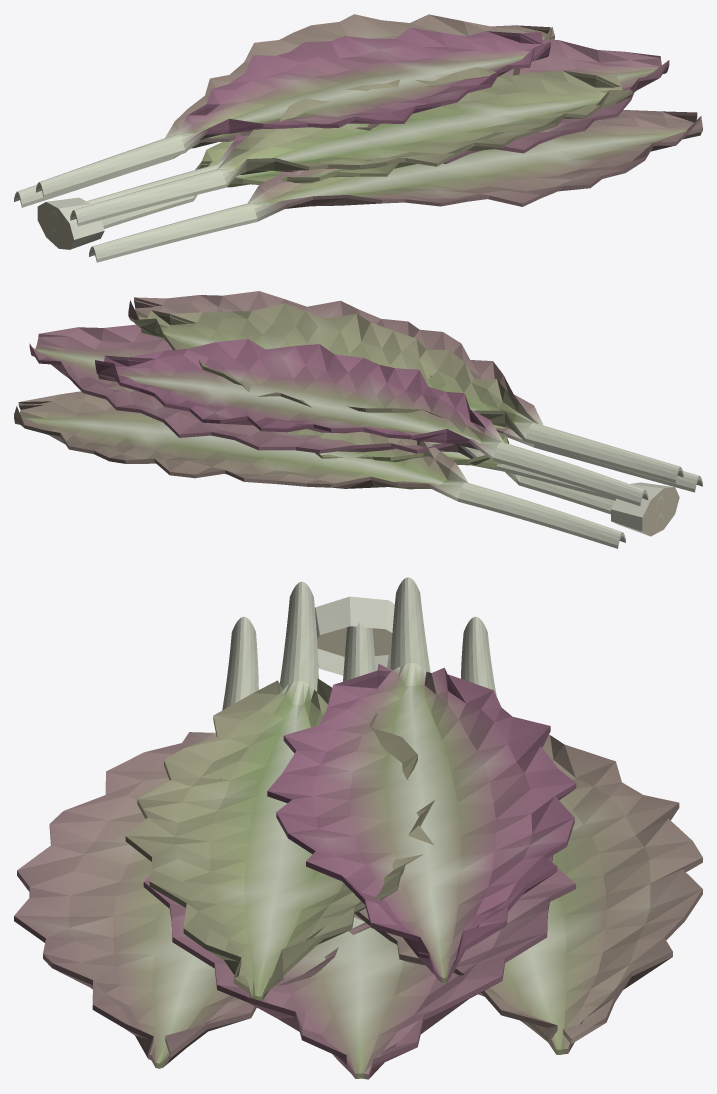
The model's file is mustard.glb.
3 views of the same model, one above another, from view 1: azimuth 30°, elevation 25°; view 2: azimuth 150°, elevation 25°; view 3: azimuth 270°, elevation 25° (orthographic). The views are drawn at different scales.
Visible parts, largest first — view 1: mustard; view 2: mustard; view 3: mustard.
Part boxes in pixels (<box>): mustard: <box>14,14,702,262</box>; mustard: <box>14,291,702,548</box>; mustard: <box>14,577,702,1079</box>.
Bounding box in the file's own units: 2.25 × 0.2927 × 1.43.
